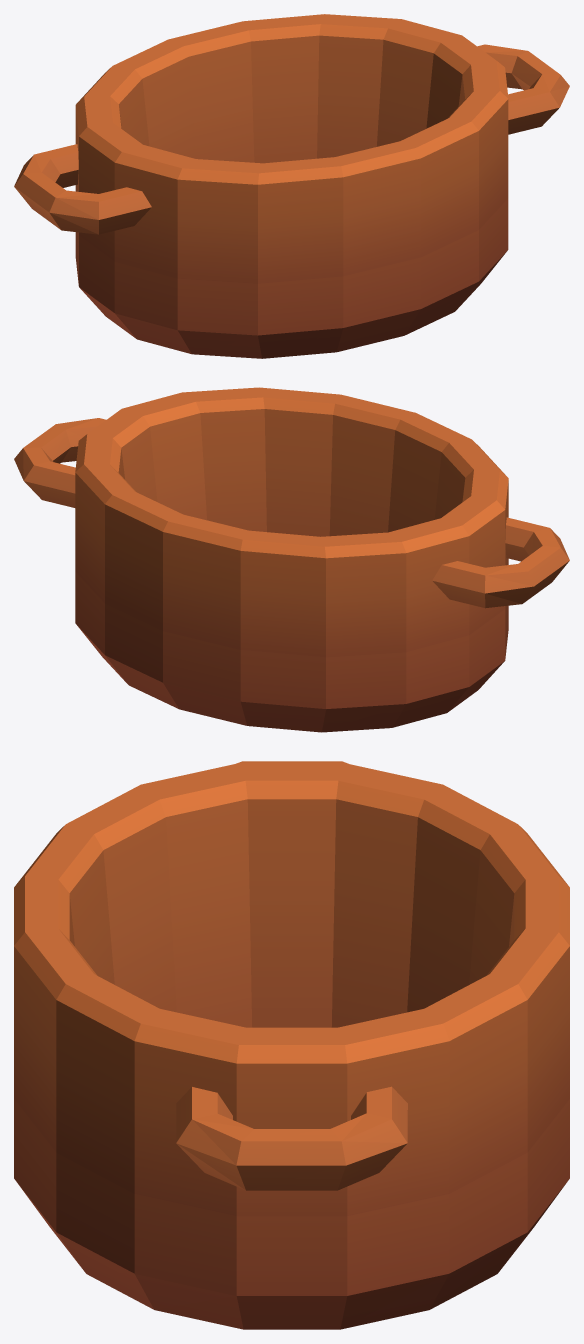
File: PotLarge.obj
3 views of the same model, one above another, from view 1: azimuth 30°, elevation 25°; view 2: azimuth 150°, elevation 25°; view 3: azimuth 270°, elevation 25° (orthographic). The views are drawn at different scales.
Visible parts, largest first — view 1: Cylinder.204; view 2: Cylinder.204; view 3: Cylinder.204.
Part boxes in pixels (x1,y1,x2,y2): Cylinder.204: [14, 14, 569, 358]; Cylinder.204: [14, 387, 569, 732]; Cylinder.204: [14, 761, 569, 1329].
Size of the model in its own units: 2 by 0.75 by 1.2.
1 material, 1 textured.
